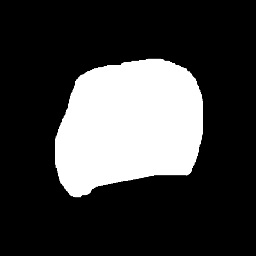mass: (48, 65, 197, 195)
